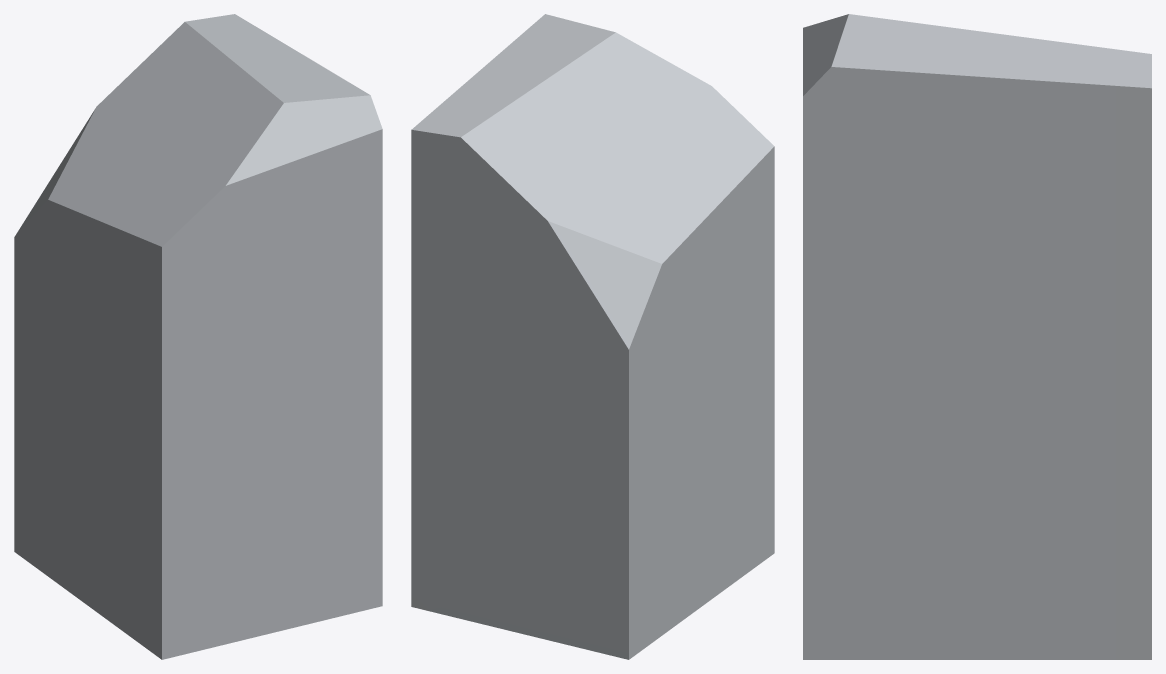
Rendered from rock-square-m-05.glb.
3 renders of one model, left to right at view 1: azimuth 30°, elevation 25°; view 2: azimuth 150°, elevation 25°; view 3: azimuth 270°, elevation 25°, orthographic. The views are drawn at different scales.
Parts seen in each view (by area): view 1: Rock_Square_m_05; view 2: Rock_Square_m_05; view 3: Rock_Square_m_05.
Boxes of the visible parts, <box> form: Rock_Square_m_05: <box>14,14,382,659</box>; Rock_Square_m_05: <box>411,14,774,659</box>; Rock_Square_m_05: <box>803,14,1151,659</box>.
Bounding box in the file's own units: 0.4139 × 0.9112 × 0.48.
Materials: 1 (1 with a texture image).
